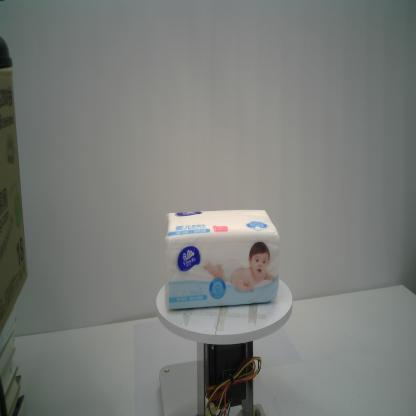Tissue: (163, 208, 281, 309)
